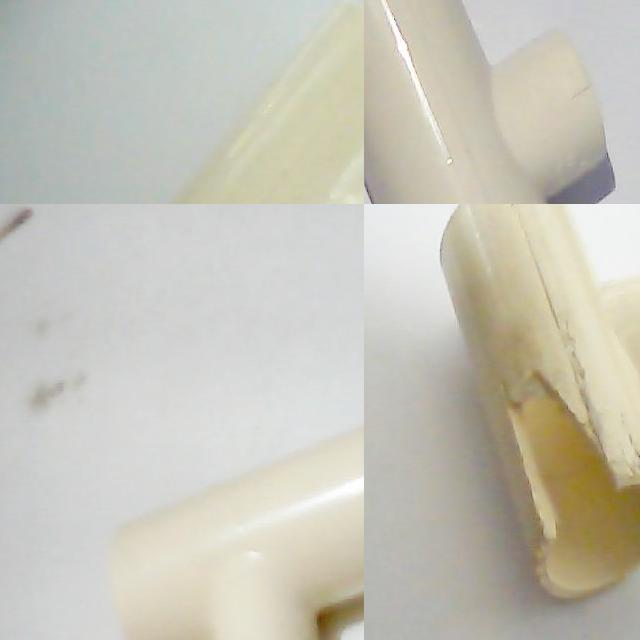Defective: (508, 359, 626, 515)
T Joint: (438, 204, 640, 603), (111, 425, 364, 640), (364, 0, 617, 204), (168, 0, 364, 204)
